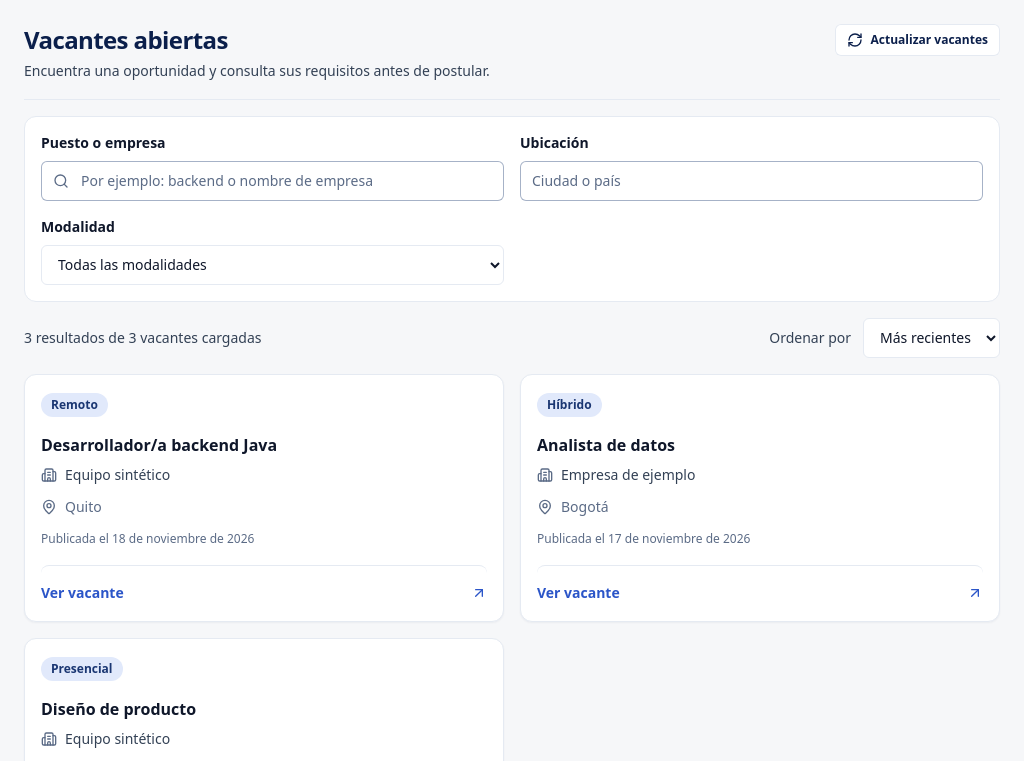
explorador de vacantes › distingue una búsqueda sin resultados y permite limpiar los filtros
Expected: the heading "Desarrollador/a backend Java" is shown, [41,434,277,456]
Type "no-existe" into the search field labelled "Puesto o empresa". click: (272, 181)
box: [41,161,504,201]
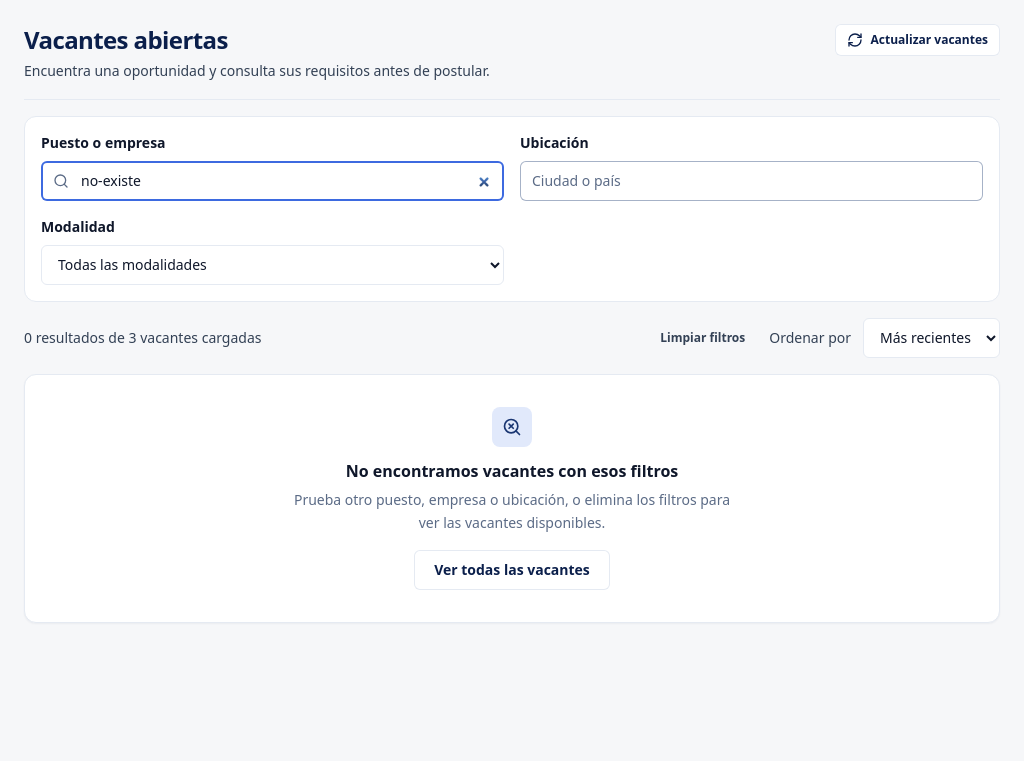
Result: the heading "No encontramos vacantes con esos filtros" is shown at [346,459,678,483]
Click the button "Ver todas las vacantes". click: (512, 570)
box: [414,550,610,590]
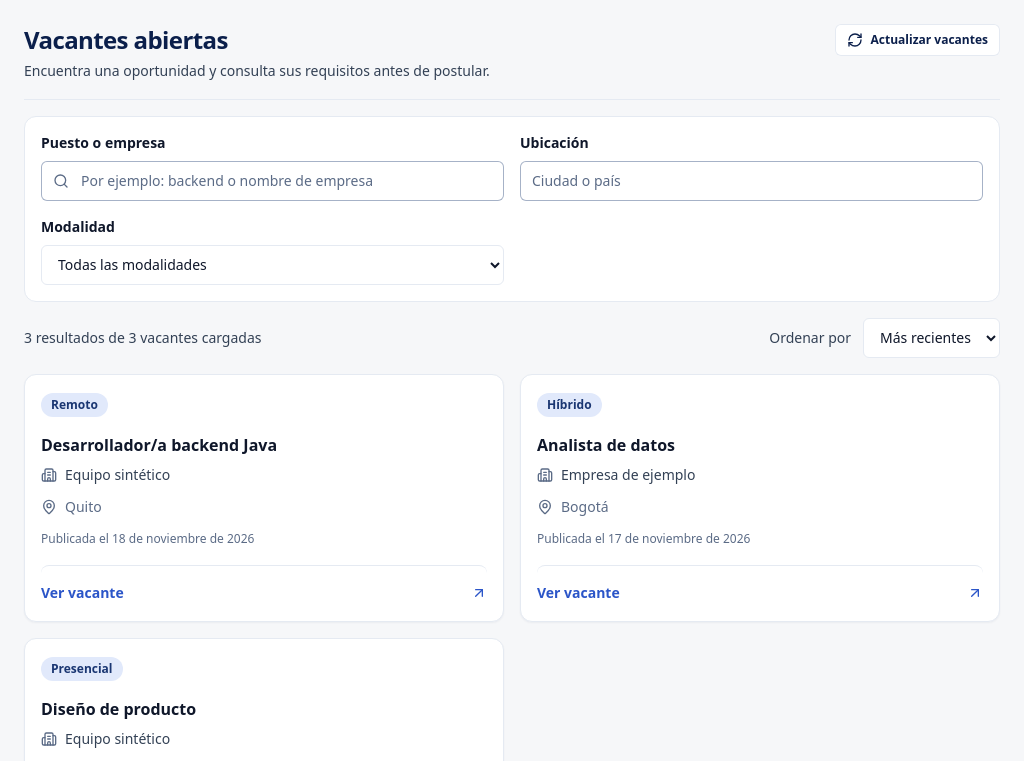
Result: the heading "Desarrollador/a backend Java" is shown at [41,434,277,456]
